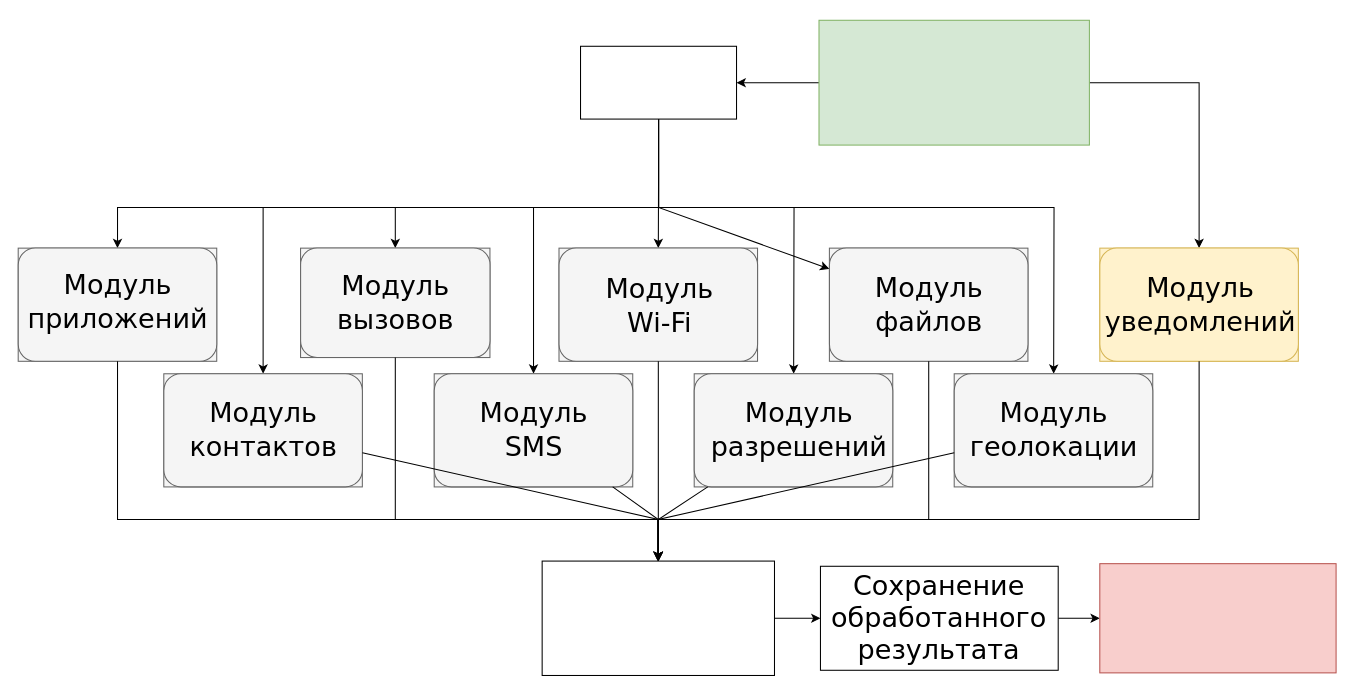
Image size: 1355x694. Some labels were removed from this diagram. Here are the shapes that lost their labels. From the top down, the box of each, then its label:
(579, 45, 737, 119): Запуск модулей
(818, 19, 1089, 145): Запуск фонового процесса на мобильном устройстве
(541, 560, 774, 675): Серверная обработка данных
(1099, 563, 1336, 673): Запрос обработанных данных
